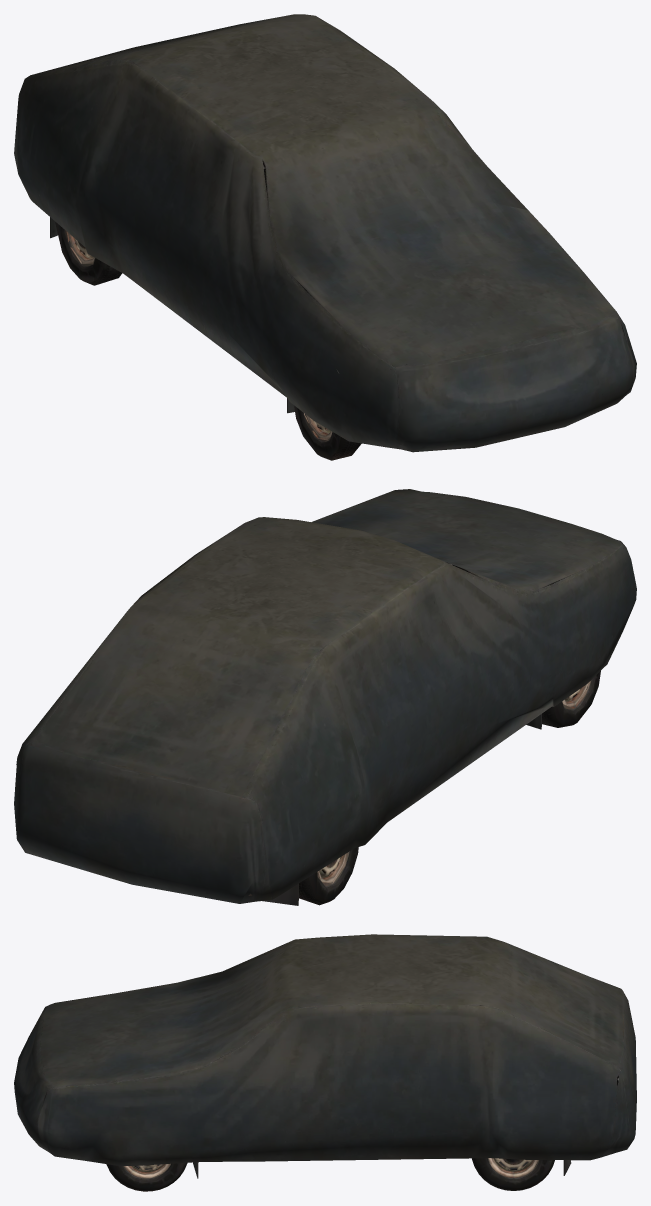
The model's file is voiture_bachee_lod0.glb.
3 renders of one model, top to bottom at view 1: azimuth 30°, elevation 25°; view 2: azimuth 150°, elevation 25°; view 3: azimuth 270°, elevation 25°, orthographic. The views are drawn at different scales.
Visible parts, largest first — view 1: covered_car_wheel_02; view 2: covered_car_wheel_02; view 3: covered_car_wheel_02, covered_car_wheel_01.
Part boxes in pixels (x1=…): covered_car_wheel_02: x1=14, y1=14, x2=636, y2=460; covered_car_wheel_02: x1=14, y1=489, x2=636, y2=905; covered_car_wheel_02: x1=14, y1=934, x2=636, y2=1178; covered_car_wheel_01: x1=106, y1=1158, x2=554, y2=1191.
Size of the model in its own units: 1.79 by 1.41 by 4.38.
1 material, 1 textured.
